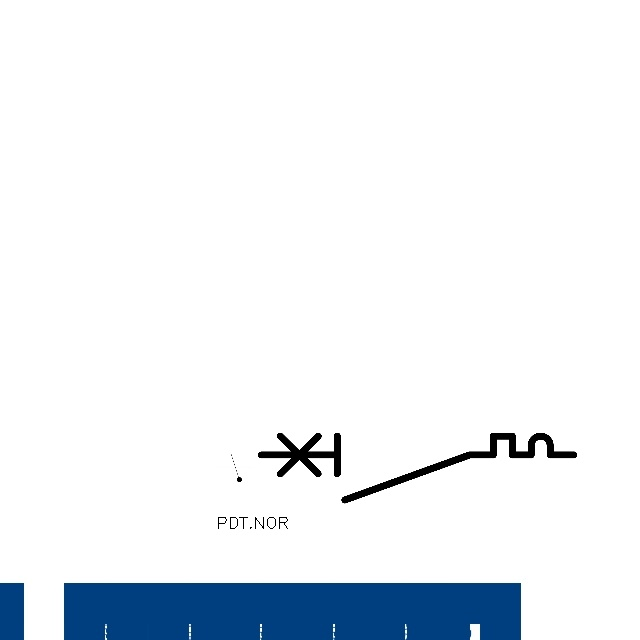interruptor_termomagnetico: (253, 428, 582, 508)
